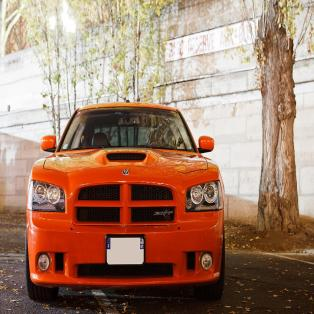Auto: (24, 101, 226, 304)
